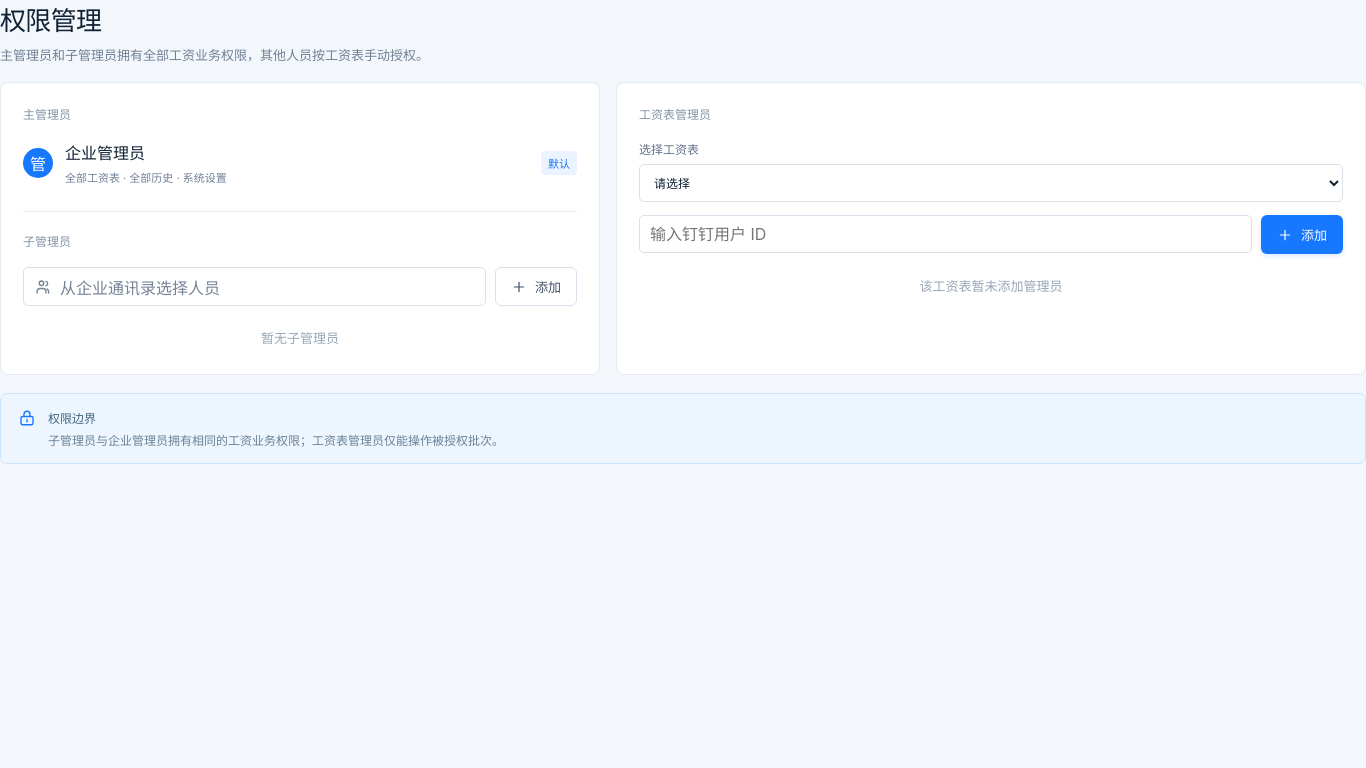
Test: PermissionCenter directory picker › shows a friendly message when DingTalk throttles a directory search
This screenshot has width=1366, height=768.
Expected: the text "暂无子管理员" is shown, top-left (261, 330), bottom-right (339, 346)
Click the button "从企业通讯录选择人员" at (140, 288), box top-left (23, 267), bottom-right (486, 306)
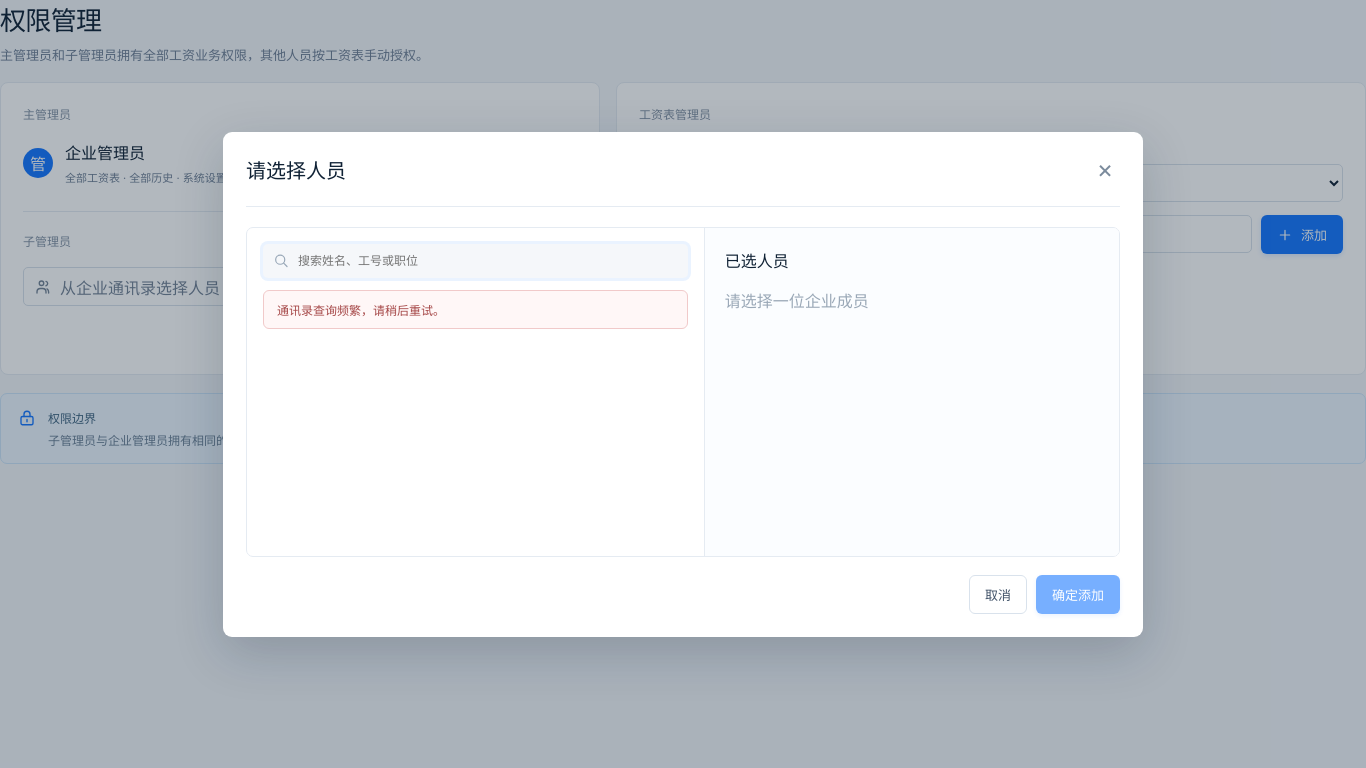
Now the text "通讯录查询频繁，请稍后重试。" is shown, box top-left (263, 290), bottom-right (688, 328)
